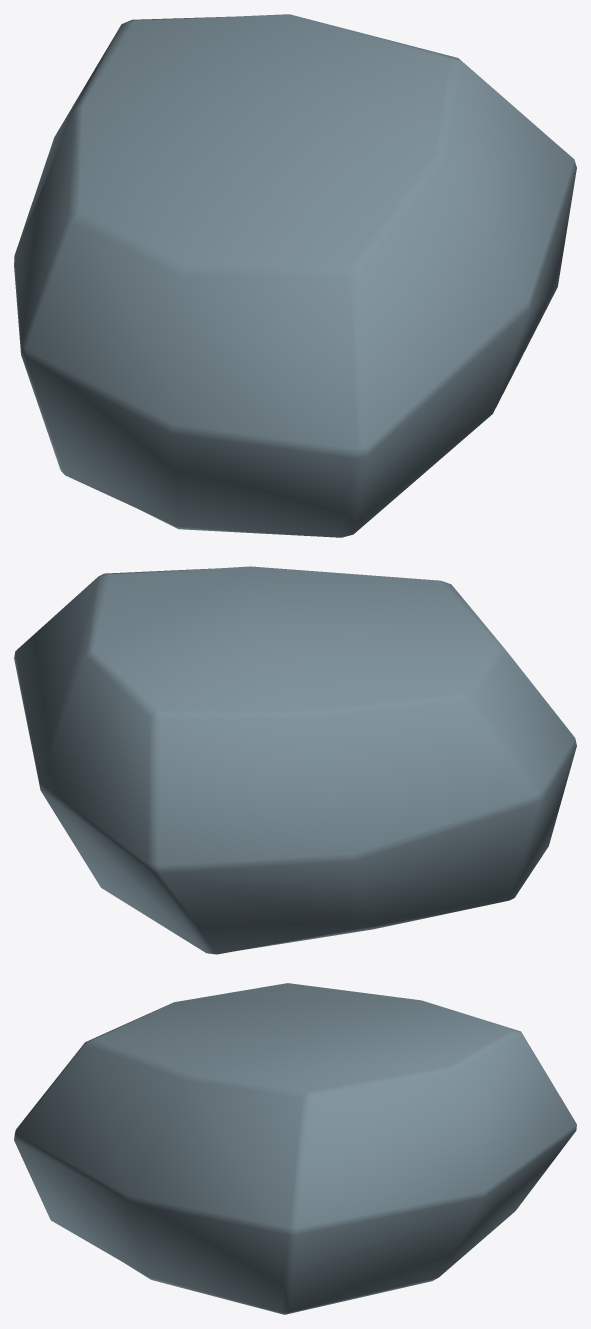
The model's file is Stone_1.fbx.
3 renders of one model, top to bottom at view 1: azimuth 30°, elevation 25°; view 2: azimuth 150°, elevation 25°; view 3: azimuth 270°, elevation 25°, orthographic. The views are drawn at different scales.
Parts seen in each view (by area): view 1: Rocks_1; view 2: Rocks_1; view 3: Rocks_1.
Part boxes in pixels (x1=…): Rocks_1: x1=14, y1=14, x2=576, y2=537; Rocks_1: x1=14, y1=566, x2=576, y2=954; Rocks_1: x1=14, y1=983, x2=576, y2=1314.
Bounding box in the file's own units: 18.05 × 10.06 × 19.67.
